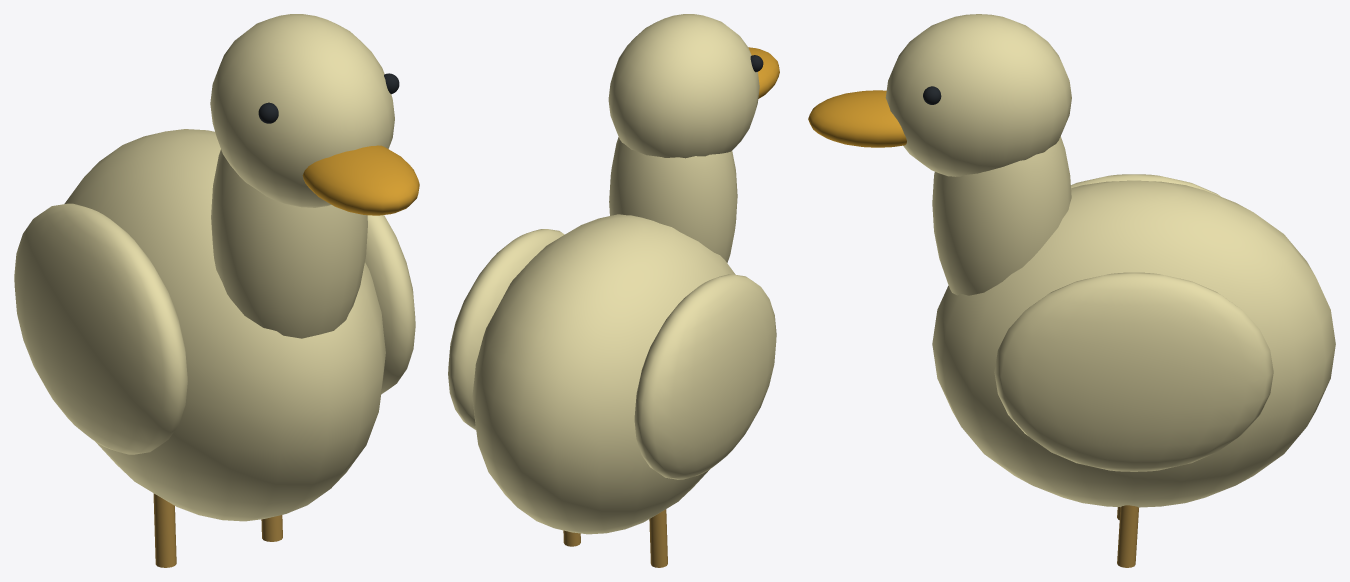
Rendered from pet-43.glb.
3 renders of one model, left to right at view 1: azimuth 30°, elevation 25°; view 2: azimuth 150°, elevation 25°; view 3: azimuth 270°, elevation 25°, orthographic. The views are drawn at different scales.
Parts seen in each view (by area): view 1: body, wing (×2), head, neck, beak, leg (×2); view 2: body, wing (×2), head, neck, leg, beak; view 3: body, wing (×2), head, neck, beak, leg.
Part boxes in pixels (x1,y1,x2,y2): body: (64,129,385,521); wing (×2): (14,203,415,454); head: (210,14,394,207); neck: (211,149,367,338); beak: (302,145,419,215); leg (×2): (153,493,282,567); body: (472,214,735,534); wing (×2): (448,229,776,479); head: (608,14,759,158); neck: (609,137,737,262); leg: (649,509,667,567); beak: (748,47,779,98); body: (932,180,1335,507); wing (×2): (994,174,1273,471); head: (885,14,1071,176); neck: (932,136,1071,295); beak: (808,90,906,147); leg: (1117,505,1138,567).
Bounding box in the file's own units: 0.4 × 0.7407 × 0.68.
